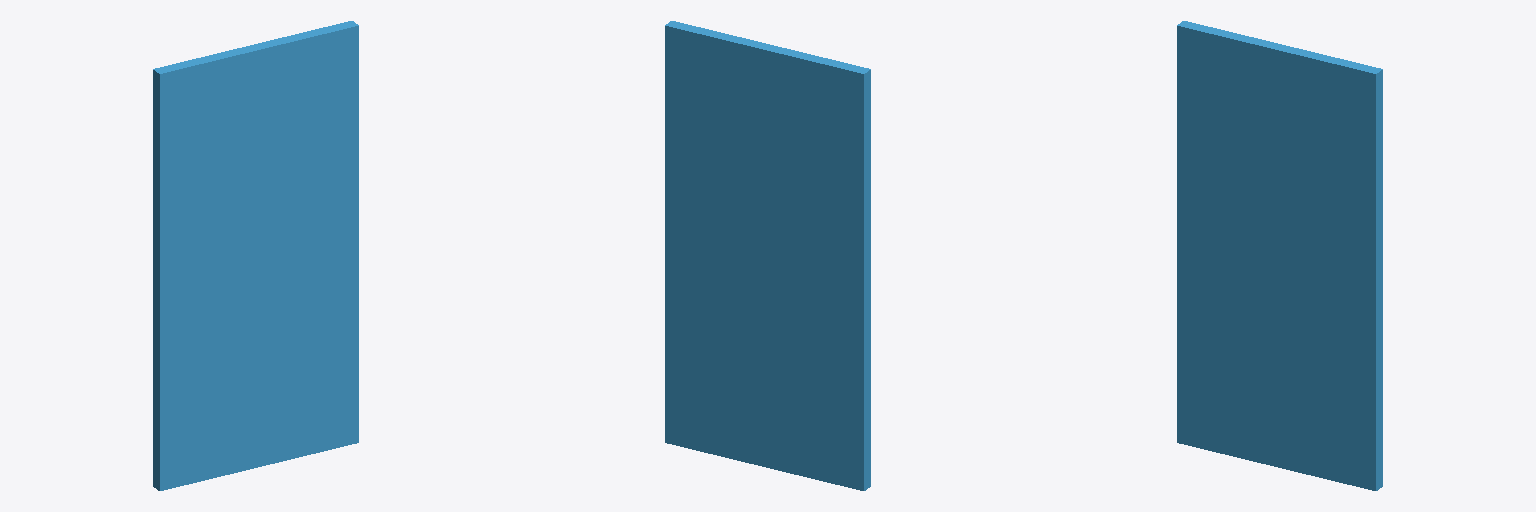
The robot description file, URDF, robot "door_entrance":
<?xml version="1.0" ?>
<robot name="door_entrance">
  <link name="world"/>
  <joint name="link_joint_entrance" type="revolute">
    <axis xyz="0 0 1"/>
    <parent link="world"/>
    <origin rpy="0 0 0" xyz="4.4 8.5 0"/>
    <limit effort="100.0" lower="0" upper="1.9" velocity="5"/>
    <child link="link_entrance"/>
  </joint>
  <link name="link_entrance">
    <inertial>
      <mass value="20"/>
      <origin xyz="0 0 0"/>
      <inertia ixx="1.0" ixy="0.0" ixz="0.0" iyy="1" iyz="0.0" izz="3"/>
    </inertial>
    <visual>
      <origin rpy="0 0 0" xyz="0.5 0.03 1"/>
      <geometry>
        <box size="1 0.06 2"/>
      </geometry>
    </visual>
    <collision>
      <origin rpy="0 0 0" xyz="0 0 0"/>
      <geometry>
        <box size="0 0 0"/>
      </geometry>
    </collision>
  </link>
  <gazebo reference="link_entrance">
    <material>Gazebo/RustySteel</material>
    <dampingFactor>0.005</dampingFactor>
    <selfCollide>true</selfCollide>
    <turnGravityOff>true</turnGravityOff>
  </gazebo>
</robot>

--- What the picture shows (computed from the rendered views, not written in the file) ---
The picture shows the robot from 3 angles, left to right: view 1: azimuth 30°, elevation 25°; view 2: azimuth 150°, elevation 25°; view 3: azimuth 330°, elevation 25°; orthographic projection.
Model door_entrance with 2 links and 1 joints (1 revolute), rooted at world, posed every joint at zero.
Visible links, largest first — view 1: link_entrance; view 2: link_entrance; view 3: link_entrance.
Link boxes in pixels (left/top/right/bottom): link_entrance: left=153, top=21, right=358, bottom=490; link_entrance: left=665, top=21, right=870, bottom=490; link_entrance: left=1177, top=21, right=1382, bottom=490.
Bounding box of the posed robot: 1 × 0.06 × 2 m (x, y, z).
Geometry: primitives only (box / cylinder / sphere), no mesh files.
